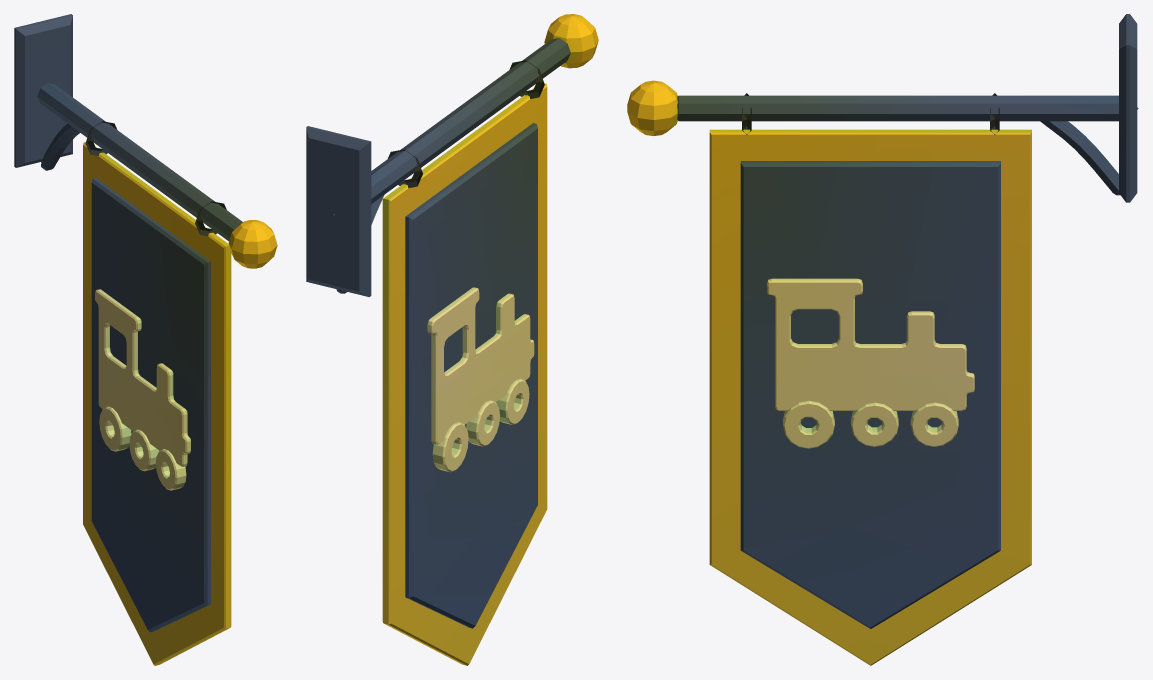
File: Prop_Banner.glb
3 renders of one model, left to right at view 1: azimuth 30°, elevation 25°; view 2: azimuth 150°, elevation 25°; view 3: azimuth 270°, elevation 25°, orthographic. The views are drawn at different scales.
Visible parts, largest first — view 1: Prop_Banner; view 2: Prop_Banner; view 3: Prop_Banner.
Boxes of the visible parts, bbox=[...] form: Prop_Banner: bbox=[14, 14, 277, 665]; Prop_Banner: bbox=[306, 14, 598, 665]; Prop_Banner: bbox=[627, 14, 1138, 665].
Size of the model in its own units: 0.12 by 1.13 by 0.8248.
